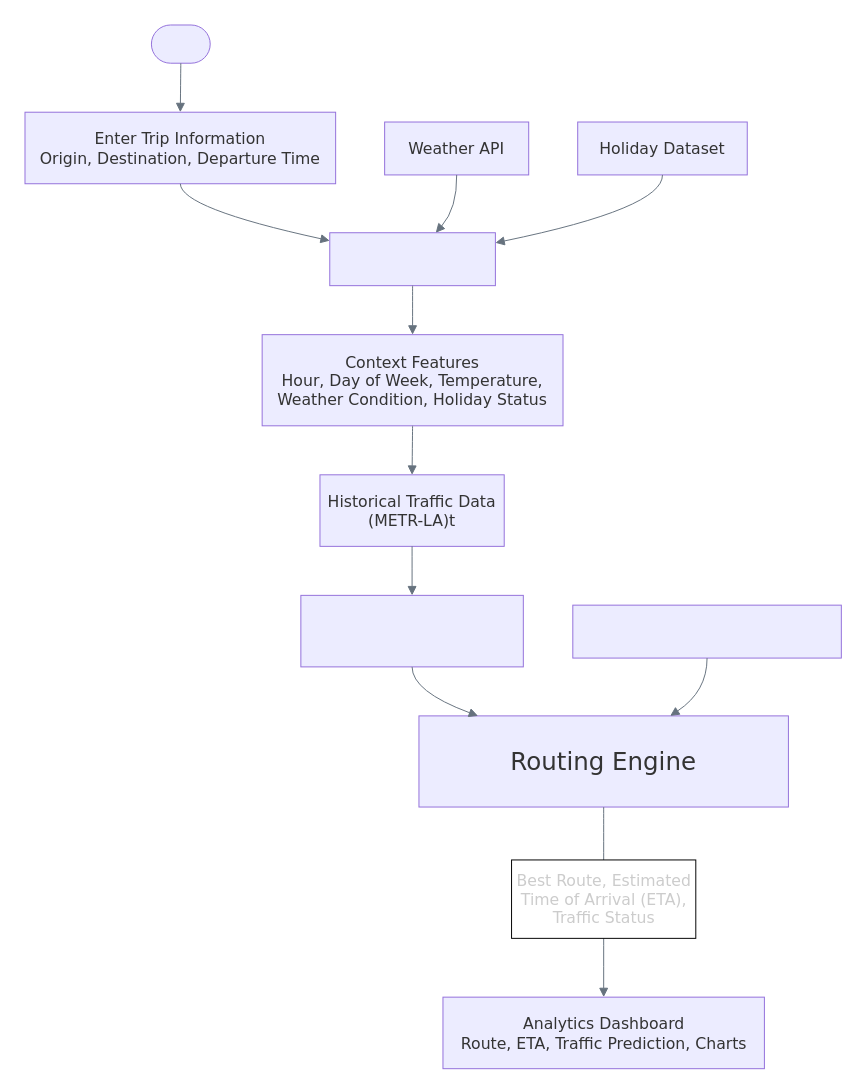
Some shapes in this 858 by 1086 pixel diagram are drawn without their labels. The centre of each missing label's shape, as x and y in pixels:
"Context Engine" belongs at (x=412, y=259).
"OpenStreetMap Road Network" belongs at (x=706, y=631).
"Prediction Engine" belongs at (x=411, y=630).
"User" belongs at (x=180, y=43).
